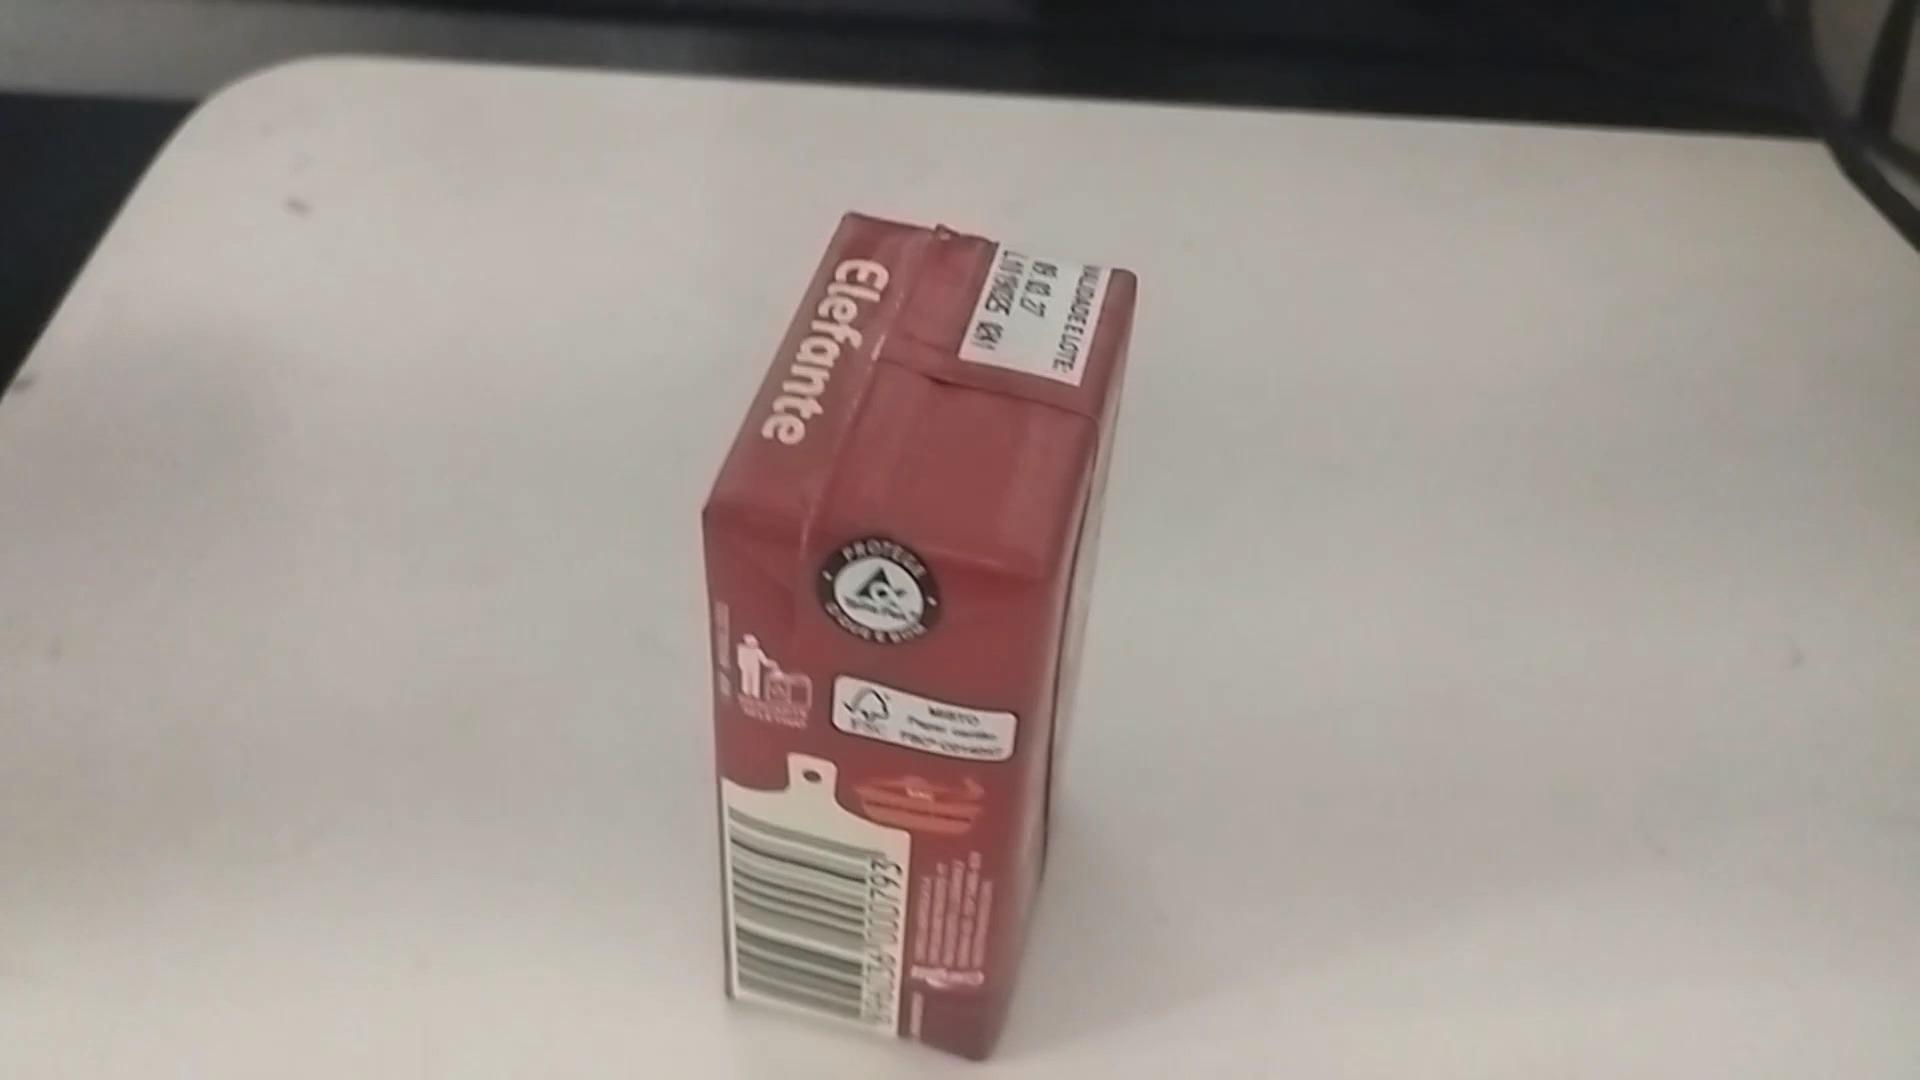tomate: (671, 190, 1171, 1060)
